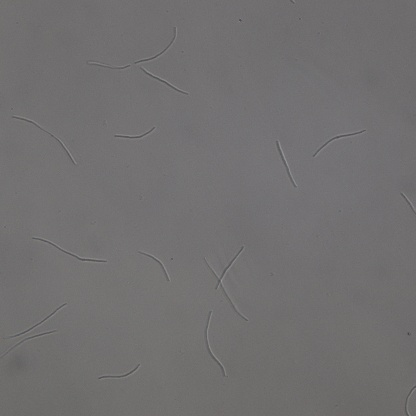Sensitive: (203, 244, 246, 320), (14, 116, 75, 164), (3, 305, 65, 338), (32, 237, 105, 263), (136, 27, 178, 64), (3, 331, 57, 359), (202, 310, 225, 375), (314, 128, 365, 155), (141, 69, 189, 97), (276, 142, 296, 185), (139, 250, 168, 279), (114, 124, 156, 140), (99, 364, 139, 380)
